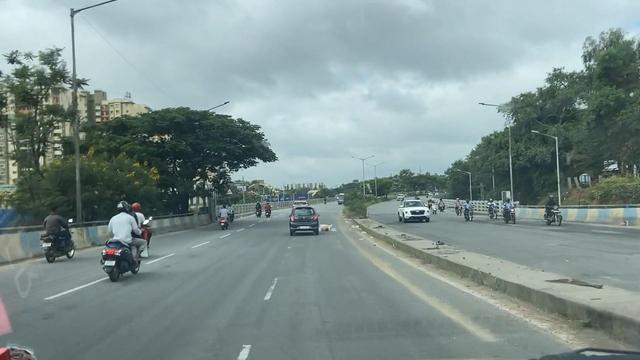LMV: (108, 204, 142, 273), (39, 209, 73, 257), (290, 207, 317, 236), (216, 204, 230, 229)
RoadDamages: (365, 261, 428, 292), (443, 303, 487, 343)
